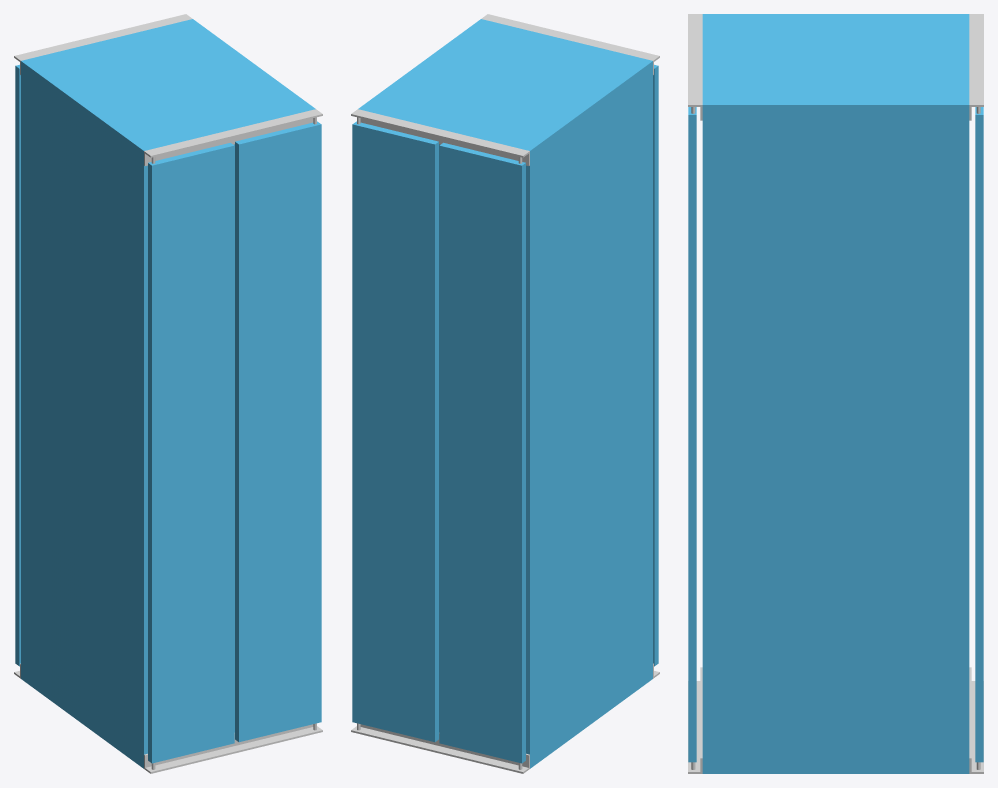
Rendered from pdp6_cabinet.FBX.
3 views of the same model, side by side, from view 1: azimuth 30°, elevation 25°; view 2: azimuth 150°, elevation 25°; view 3: azimuth 270°, elevation 25° (orthographic). The views are drawn at different scales.
Visible parts, largest first — view 1: cabinet_box001, door_l003, door_r003, door_r004, plate_top003, plate_bot003, plate_top004; view 2: cabinet_box001, door_r004, door_l004, door_l003, plate_top004, plate_bot004, plate_top003; view 3: cabinet_box001, door_l004, door_r003, plate_top004, plate_top003, plate_bot004, plate_bot003.
Boxes of the visible parts, left/top/right/bottom form: cabinet_box001: left=21, top=19, right=315, bottom=768; door_l003: left=148, top=142, right=234, bottom=763; door_r003: left=235, top=121, right=321, bottom=742; door_r004: left=15, top=64, right=20, bottom=666; plate_top003: left=144, top=109, right=322, bottom=165; plate_bot003: left=144, top=724, right=322, bottom=773; plate_top004: left=14, top=14, right=192, bottom=74; cabinet_box001: left=358, top=19, right=652, bottom=768; door_r004: left=439, top=142, right=525, bottom=763; door_l004: left=352, top=121, right=438, bottom=742; door_l003: left=653, top=64, right=658, bottom=666; plate_top004: left=351, top=109, right=529, bottom=165; plate_bot004: left=351, top=724, right=529, bottom=773; plate_top003: left=481, top=14, right=659, bottom=74; cabinet_box001: left=702, top=14, right=969, bottom=773; door_l004: left=975, top=107, right=983, bottom=762; door_r003: left=688, top=107, right=696, bottom=762; plate_top004: left=969, top=14, right=983, bottom=120; plate_top003: left=688, top=14, right=702, bottom=120; plate_bot004: left=969, top=667, right=983, bottom=773; plate_bot003: left=688, top=667, right=702, bottom=773.
Size of the model in its own units: 50 by 68.8 by 172.
